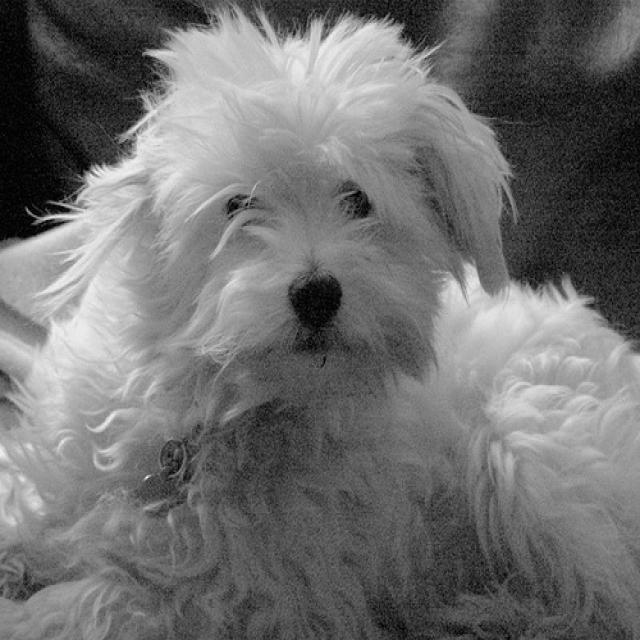dog-havanese: (4, 27, 637, 637)
